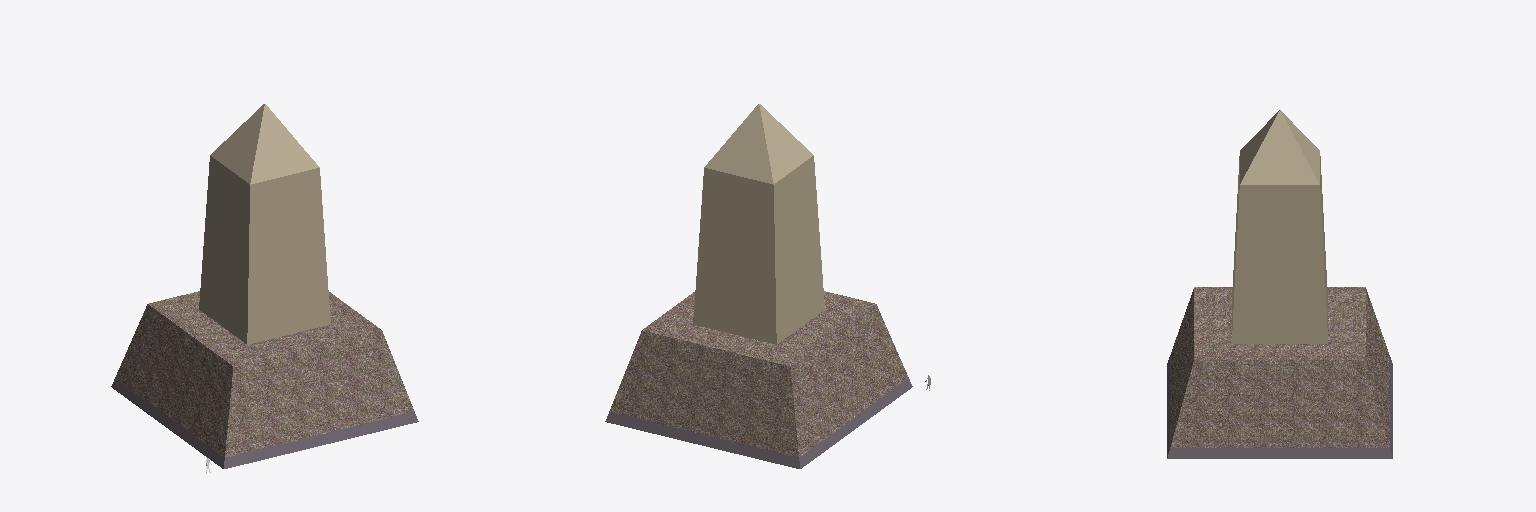
The picture shows the model from 3 angles: view 1: azimuth 30°, elevation 25°; view 2: azimuth 150°, elevation 25°; view 3: azimuth 270°, elevation 25°; orthographic projection.
Parts seen in each view (by area): view 1: Mesh1 Model; view 2: Mesh1 Model; view 3: Mesh1 Model.
Boxes of the visible parts, x1,y1,x2,y2 form: Mesh1 Model: [111, 104, 418, 468]; Mesh1 Model: [605, 104, 912, 468]; Mesh1 Model: [1167, 110, 1392, 458].
Size of the model in its own units: 22.93 by 31 by 21.
5 materials, 2 textured.